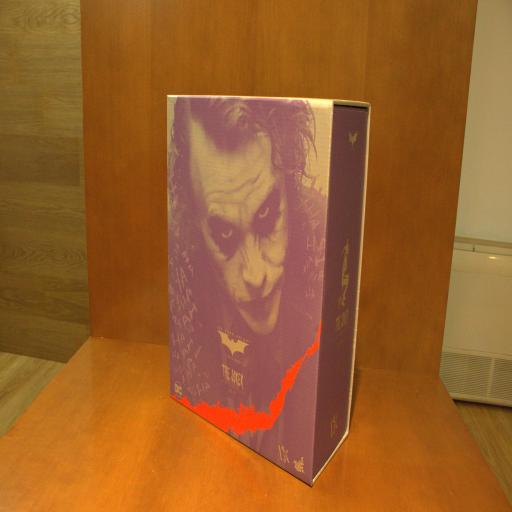Joker: (164, 88, 373, 492)
